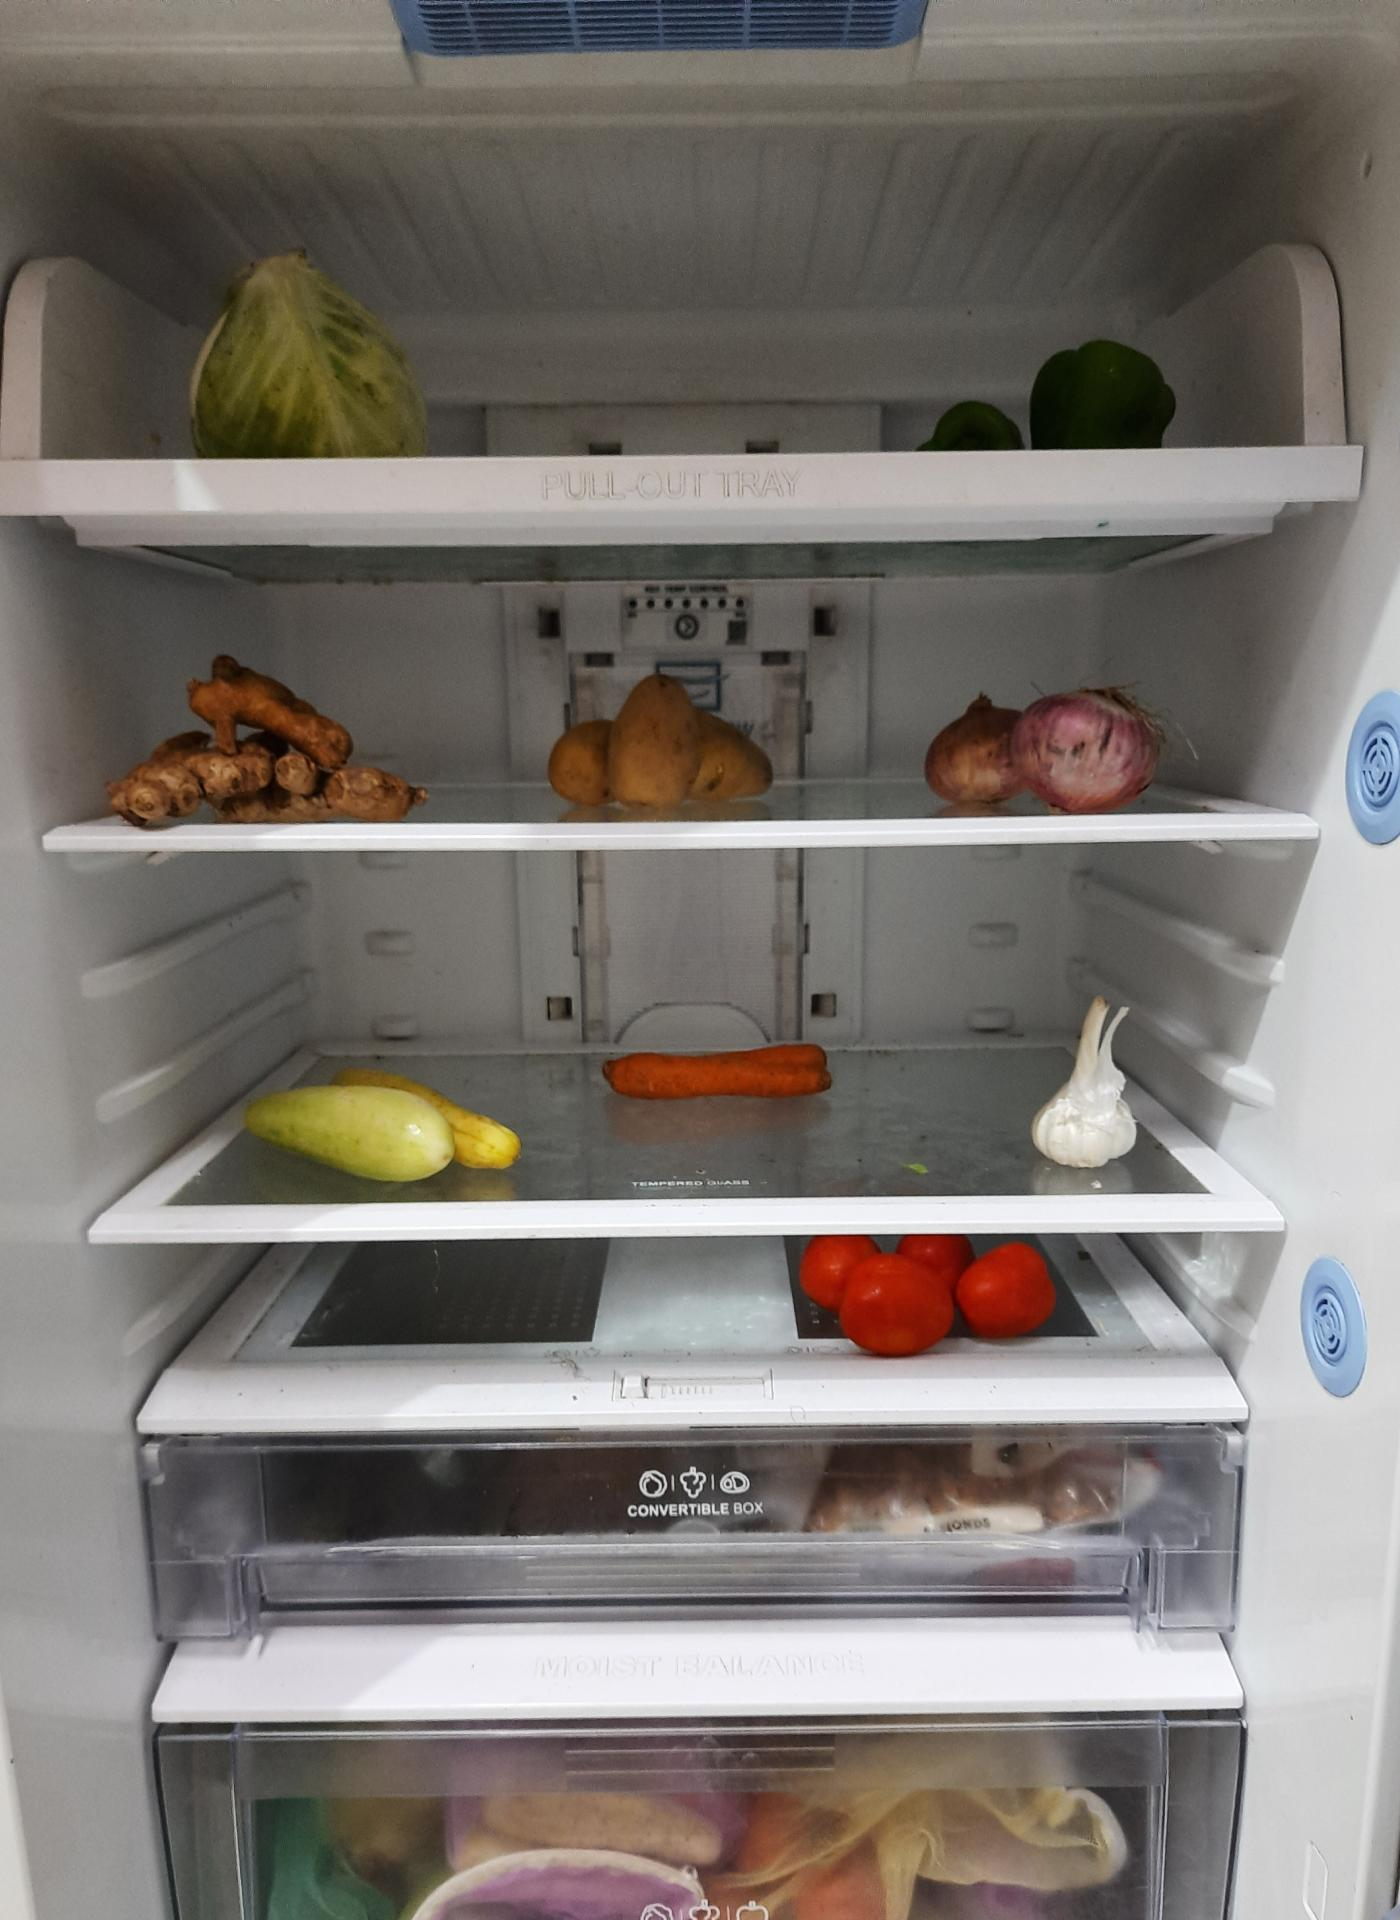cabbage: (191, 247, 434, 458)
capsicum: (909, 331, 1179, 456)
carrots: (599, 1038, 832, 1103)
cucumber: (197, 1064, 523, 1181)
garlic: (1036, 982, 1139, 1167)
ginger: (112, 660, 423, 832)
onion: (923, 675, 1154, 800)
potato: (553, 677, 769, 805)
tomato: (784, 1230, 1060, 1355)
